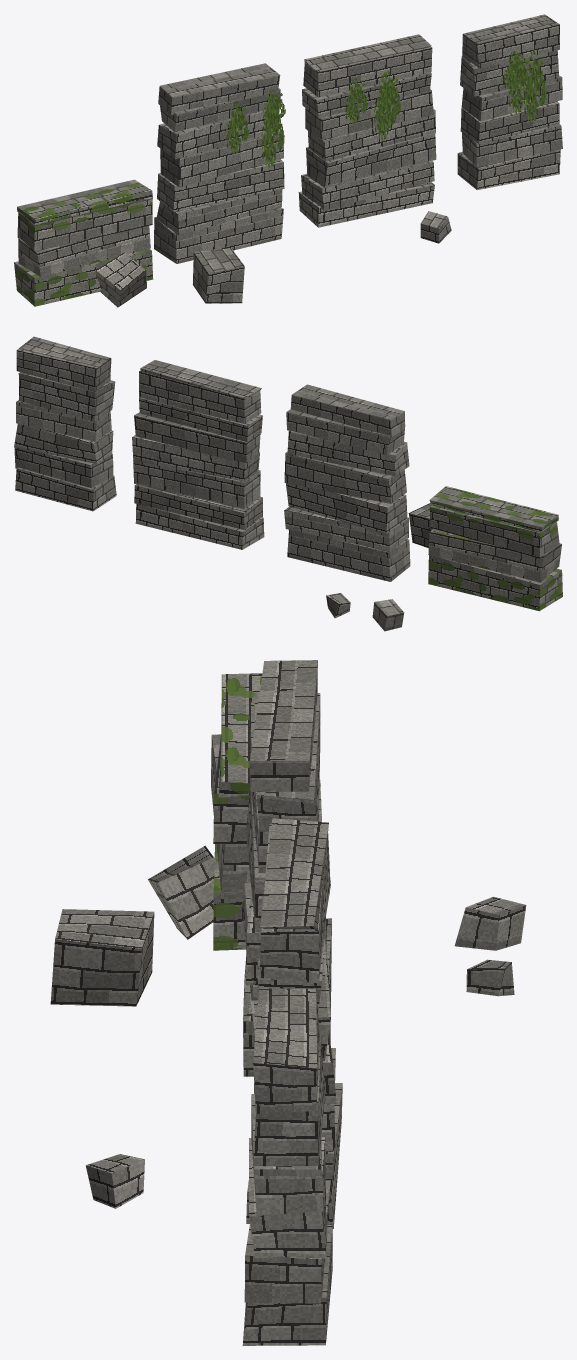
Rendered from prop_ruins_b.glb.
3 views of the same model, one above another, from view 1: azimuth 30°, elevation 25°; view 2: azimuth 150°, elevation 25°; view 3: azimuth 270°, elevation 25° (orthographic). The views are drawn at different scales.
Visible parts, largest first — view 1: prop_ruins_b; view 2: prop_ruins_b; view 3: prop_ruins_b.
Boxes of the visible parts, left/top/right/bottom form: prop_ruins_b: left=14, top=14, right=562, bottom=307; prop_ruins_b: left=14, top=336, right=562, bottom=631; prop_ruins_b: left=50, top=660, right=526, bottom=1345.
Size of the model in its own units: 16.38 by 5.12 by 6.45.
3 materials, 3 textured.
